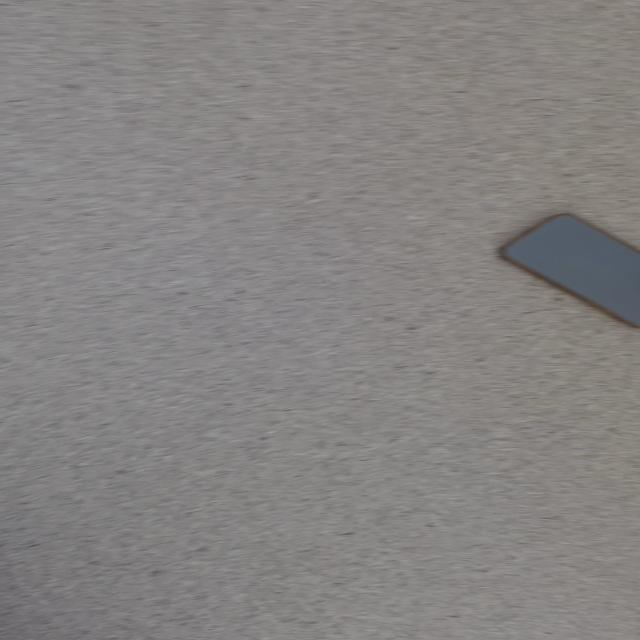phone: (496, 212, 638, 328)
